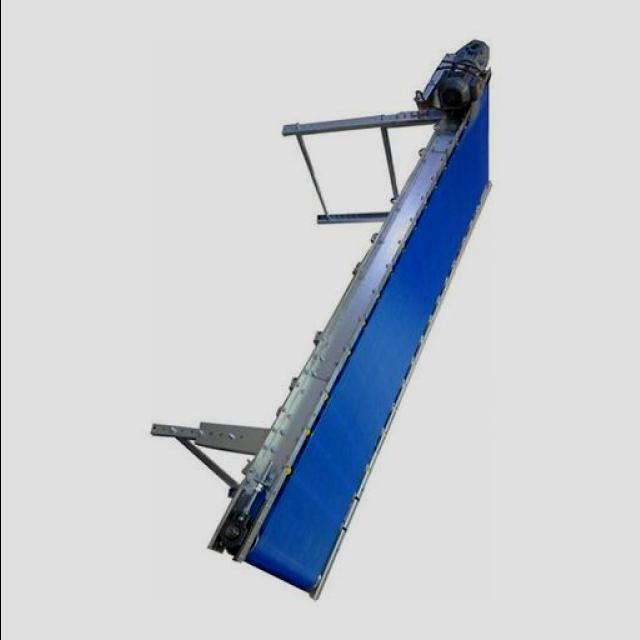conveyor: (238, 84, 490, 597)
